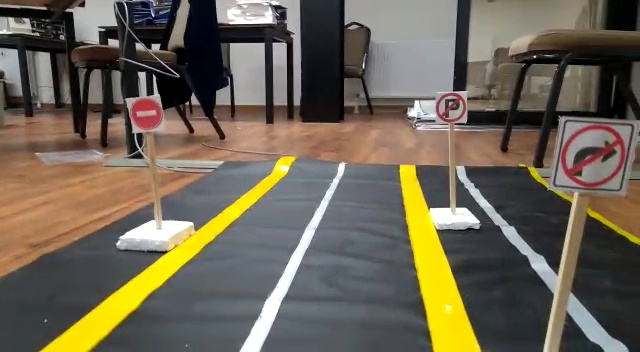girisi_olmayan_yol: (129, 97, 164, 129)
park_yapilmaz: (435, 91, 465, 123)
saga_donulmez: (560, 121, 628, 192)
